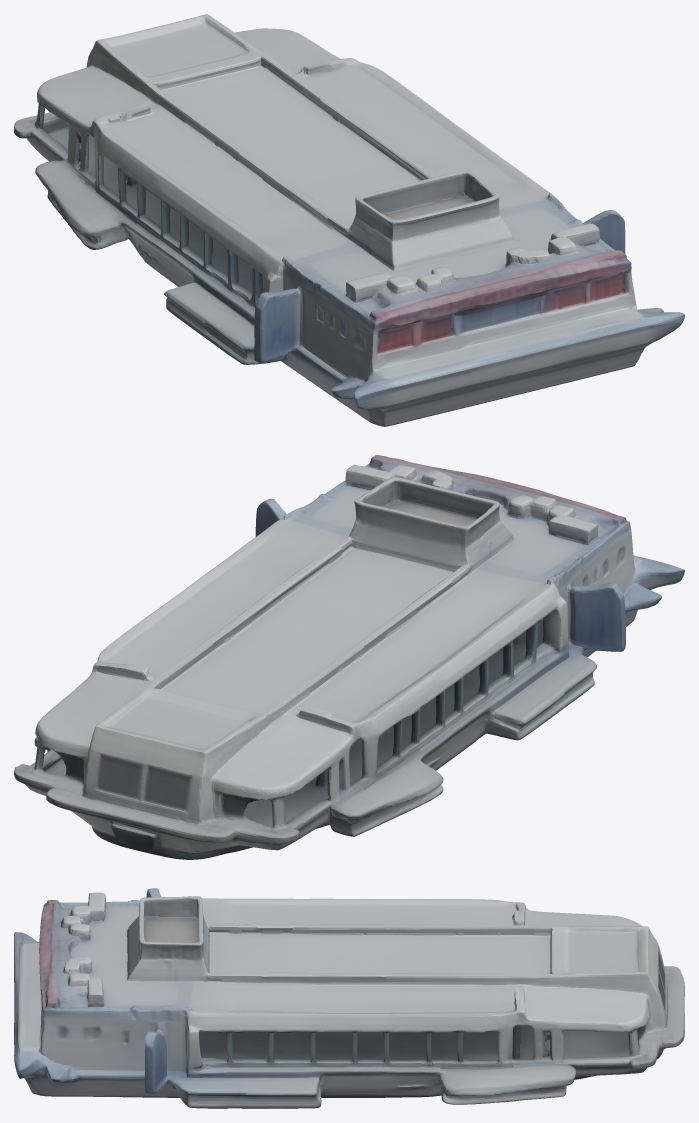
The model's file is boat.glb.
3 renders of one model, top to bottom at view 1: azimuth 30°, elevation 25°; view 2: azimuth 150°, elevation 25°; view 3: azimuth 270°, elevation 25°, orthographic. The views are drawn at different scales.
Parts seen in each view (by area): view 1: world; view 2: world; view 3: world.
Part boxes in pixels (x1,y1,x2,y2): world: [14, 14, 684, 426]; world: [14, 455, 684, 859]; world: [14, 888, 684, 1108].
Size of the model in its own units: 0.5446 by 0.2001 by 1.
